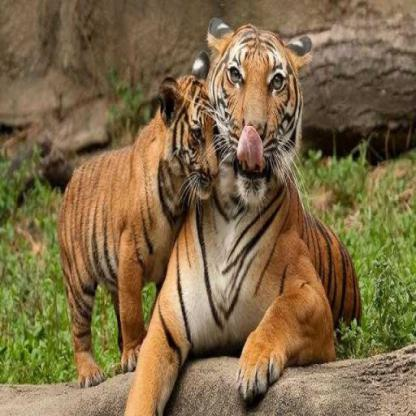Tiger: (133, 12, 368, 415), (44, 66, 223, 384)
